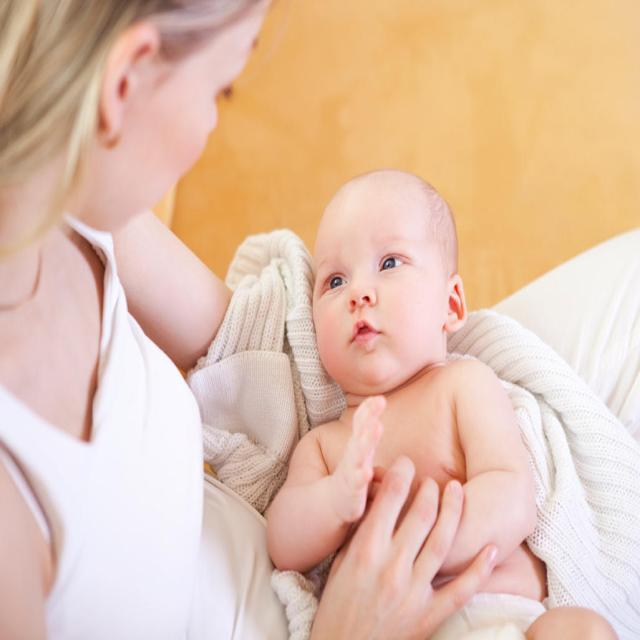adult: (0, 0, 495, 640)
child: (262, 172, 621, 640)
